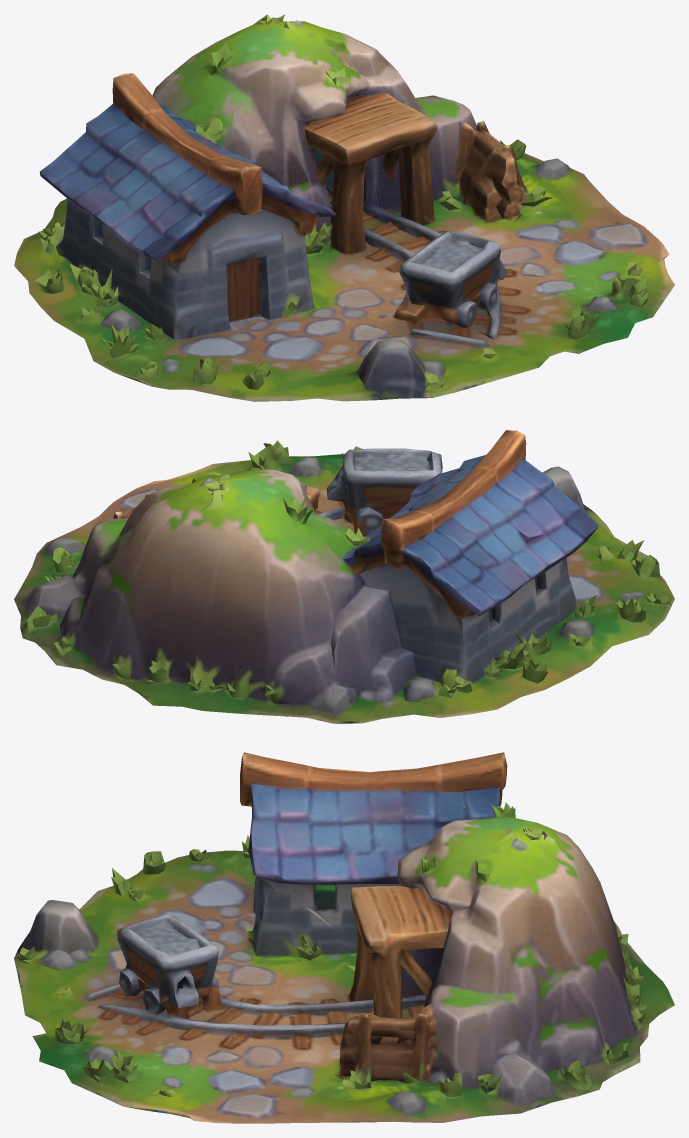
File: village_hills_b.glb
3 renders of one model, top to bottom at view 1: azimuth 30°, elevation 25°; view 2: azimuth 150°, elevation 25°; view 3: azimuth 270°, elevation 25°, orthographic. The views are drawn at different scales.
Visible parts, largest first — view 1: world; view 2: world; view 3: world.
Boxes of the visible parts, bbox=[...] form: world: bbox=[14, 14, 674, 401]; world: bbox=[14, 430, 674, 723]; world: bbox=[14, 752, 674, 1123].
Size of the model in its own units: 0.983 by 0.3138 by 0.995.
Materials: 1 (1 with a texture image).
